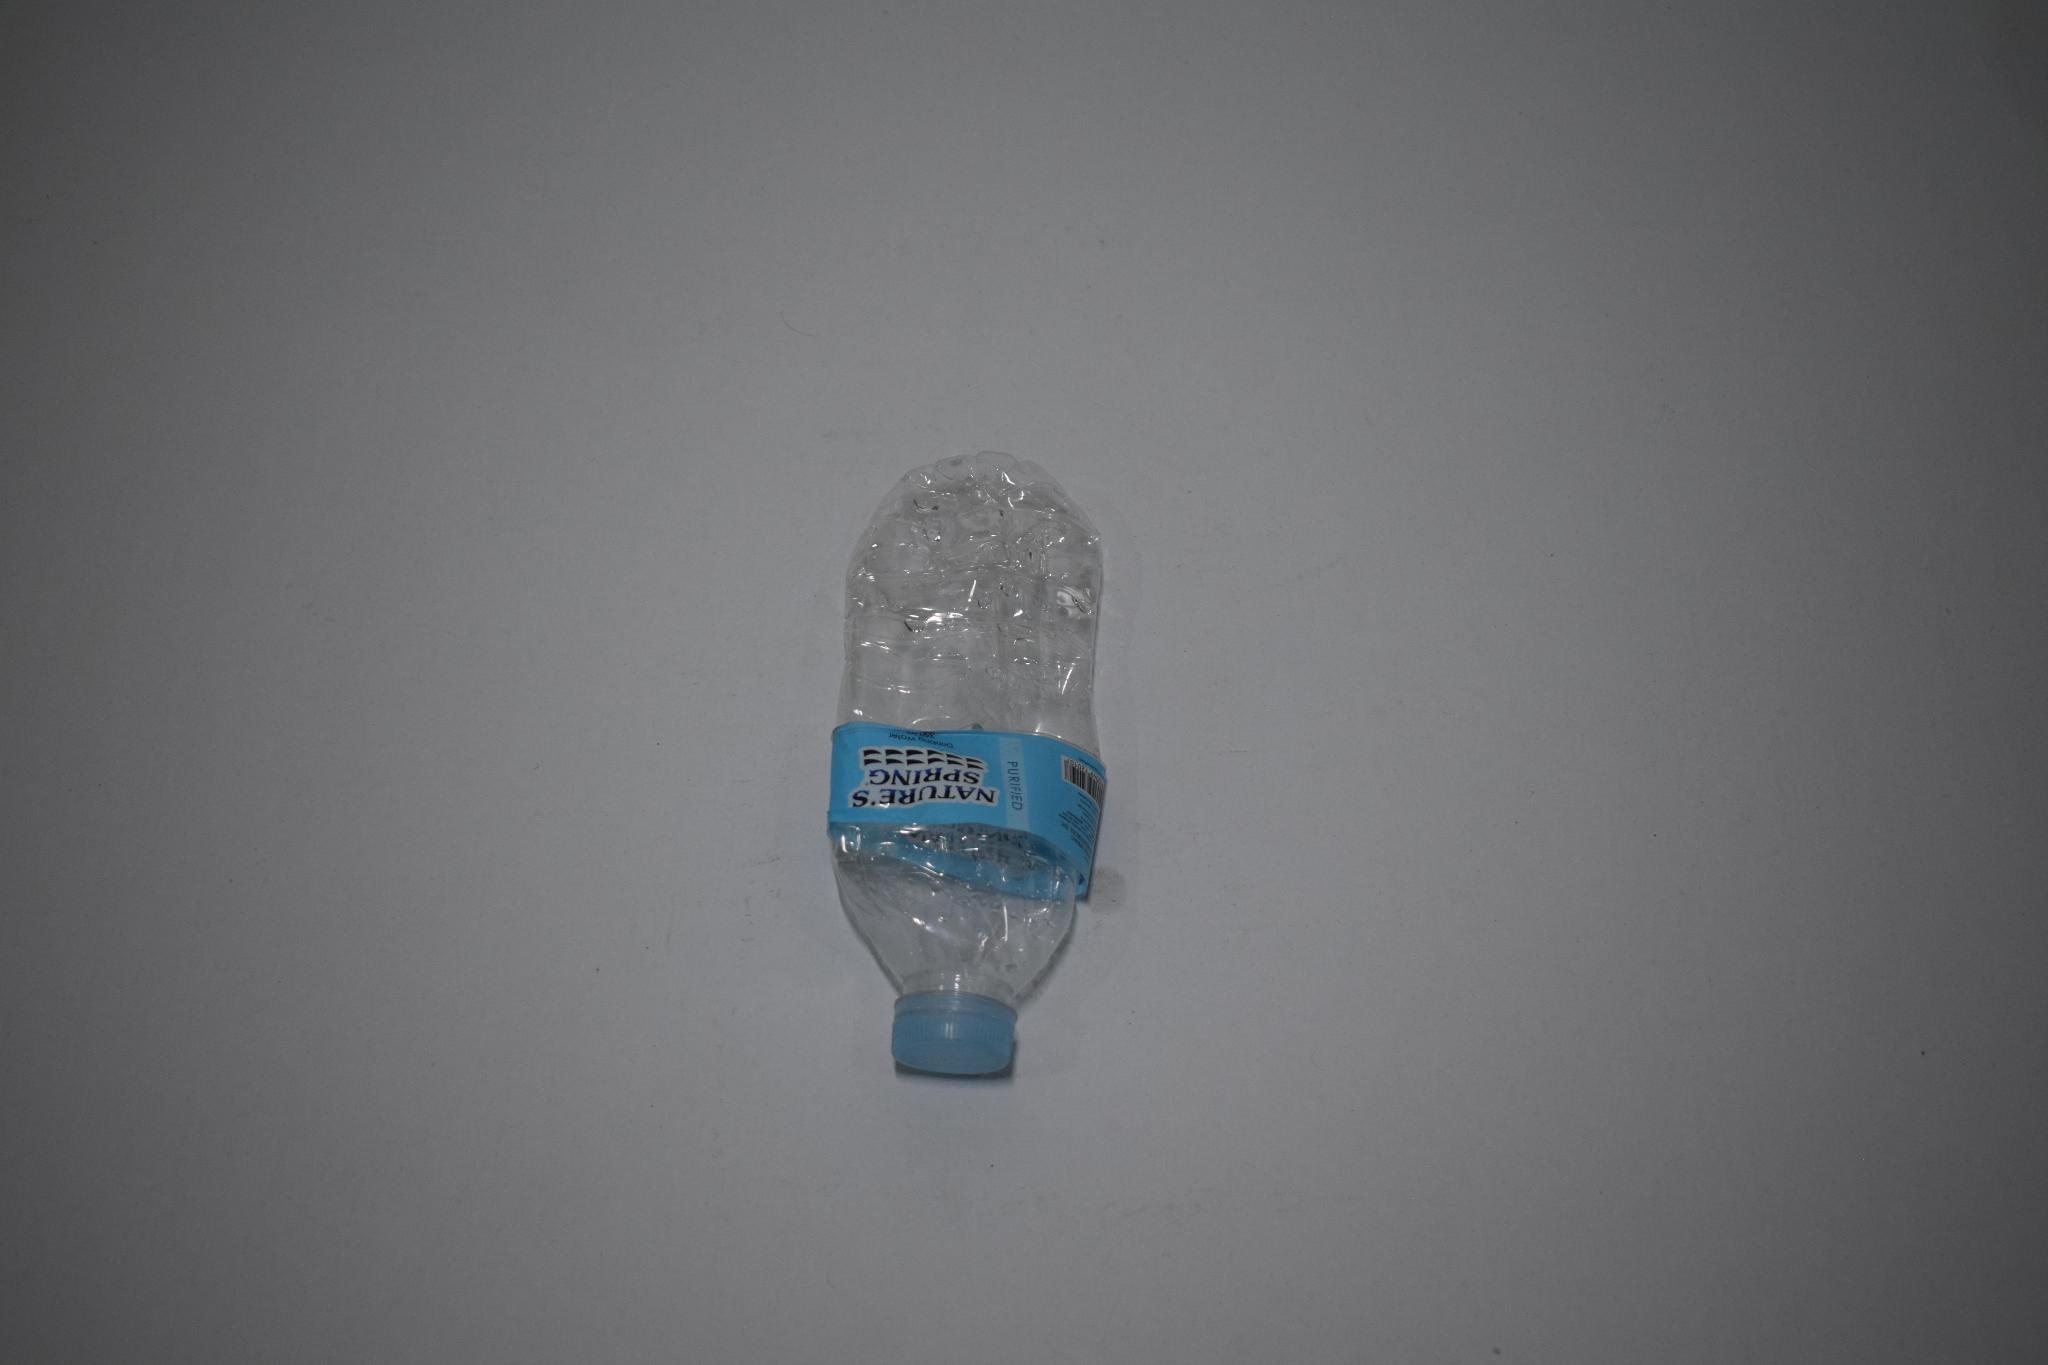bottle: (836, 448, 1116, 1096)
